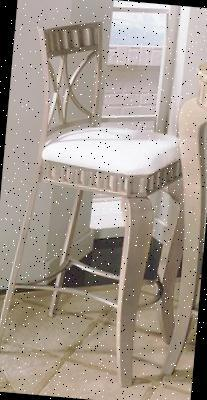Silla: (0, 22, 206, 394)
